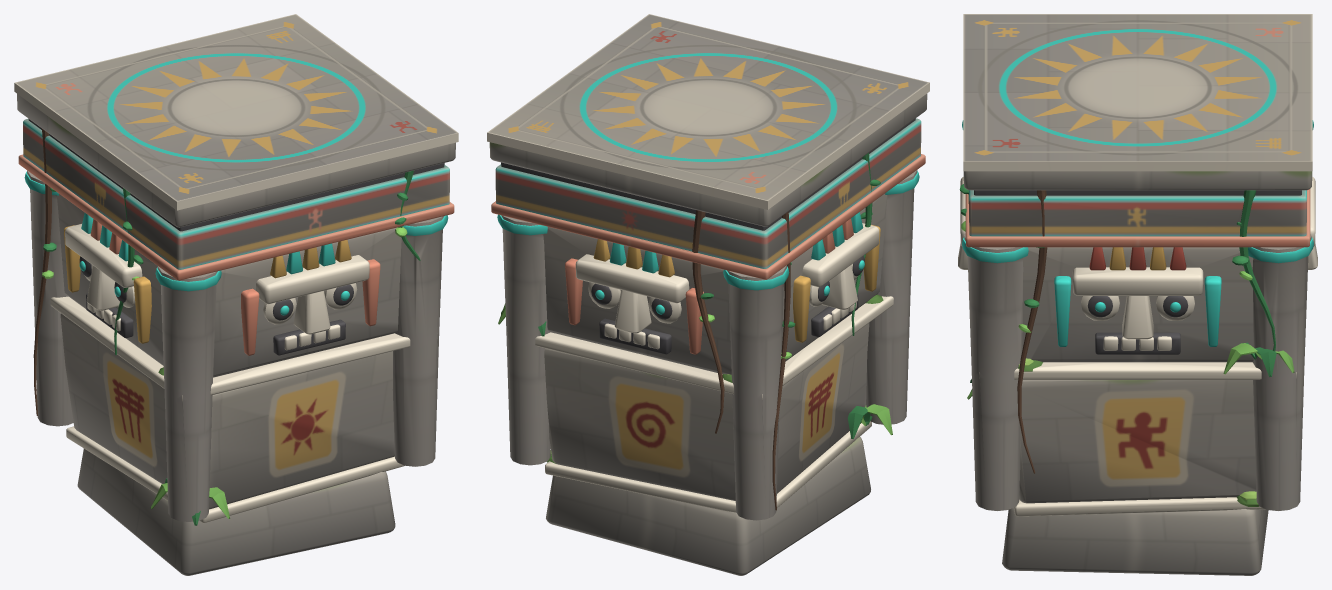
Rendered from core.glb.
The picture shows the model from 3 angles, left to right: view 1: azimuth 30°, elevation 25°; view 2: azimuth 150°, elevation 25°; view 3: azimuth 270°, elevation 25°; orthographic projection. The views are drawn at different scales.
Parts seen in each view (by area): view 1: core.001; view 2: core.001; view 3: core.001.
Part boxes in pixels (x1,y1,x2,y2): core.001: (14,14,458,575); core.001: (487,14,929,575); core.001: (958,14,1317,575).
Bounding box in the file's own units: 10.34 × 13.7 × 10.29.
1 material, 1 textured.
